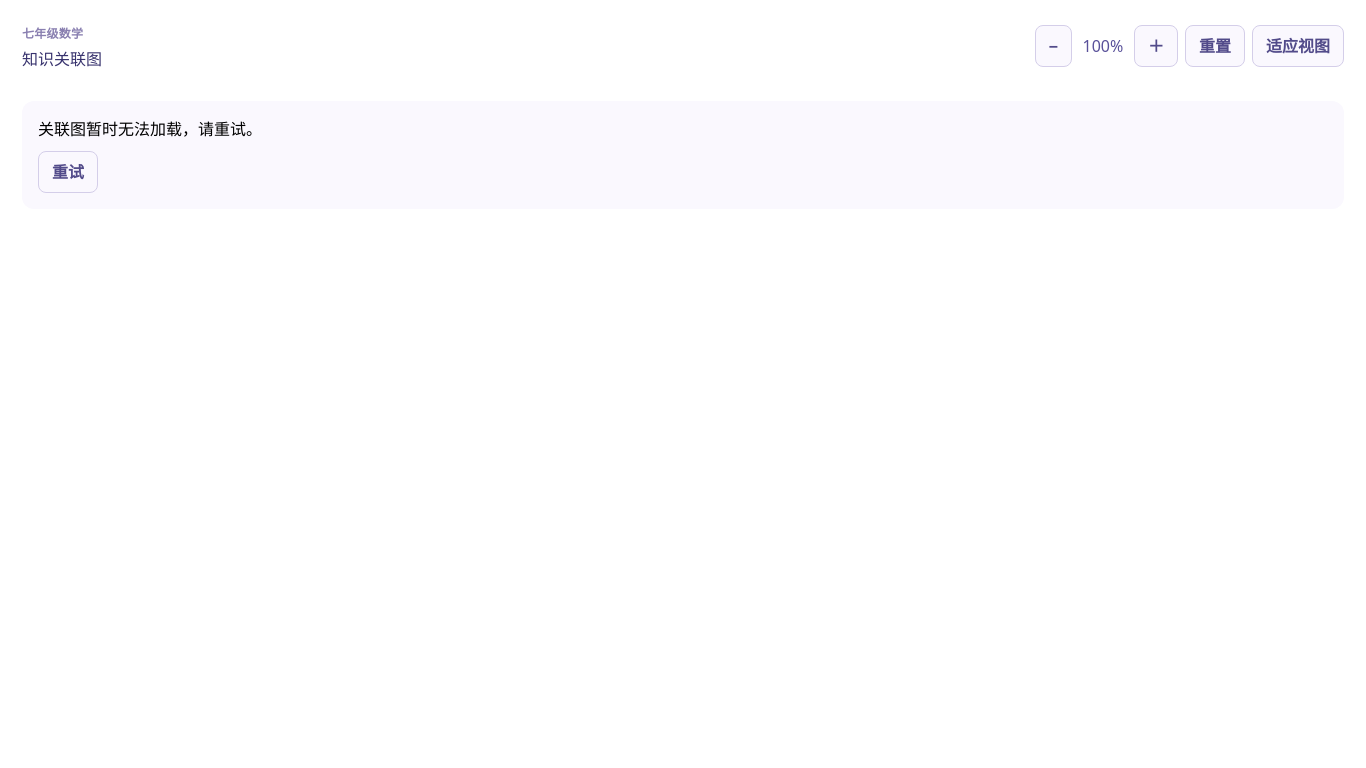
Scenario: KnowledgeGraphPanel › shows a non-abort failure and retries the graph request
Expected: the message reads "关联图暂时无法加载，请重试。", top-left (38, 118), bottom-right (262, 140)
Click the button "重试" at (68, 172), box top-left (38, 151), bottom-right (98, 193)
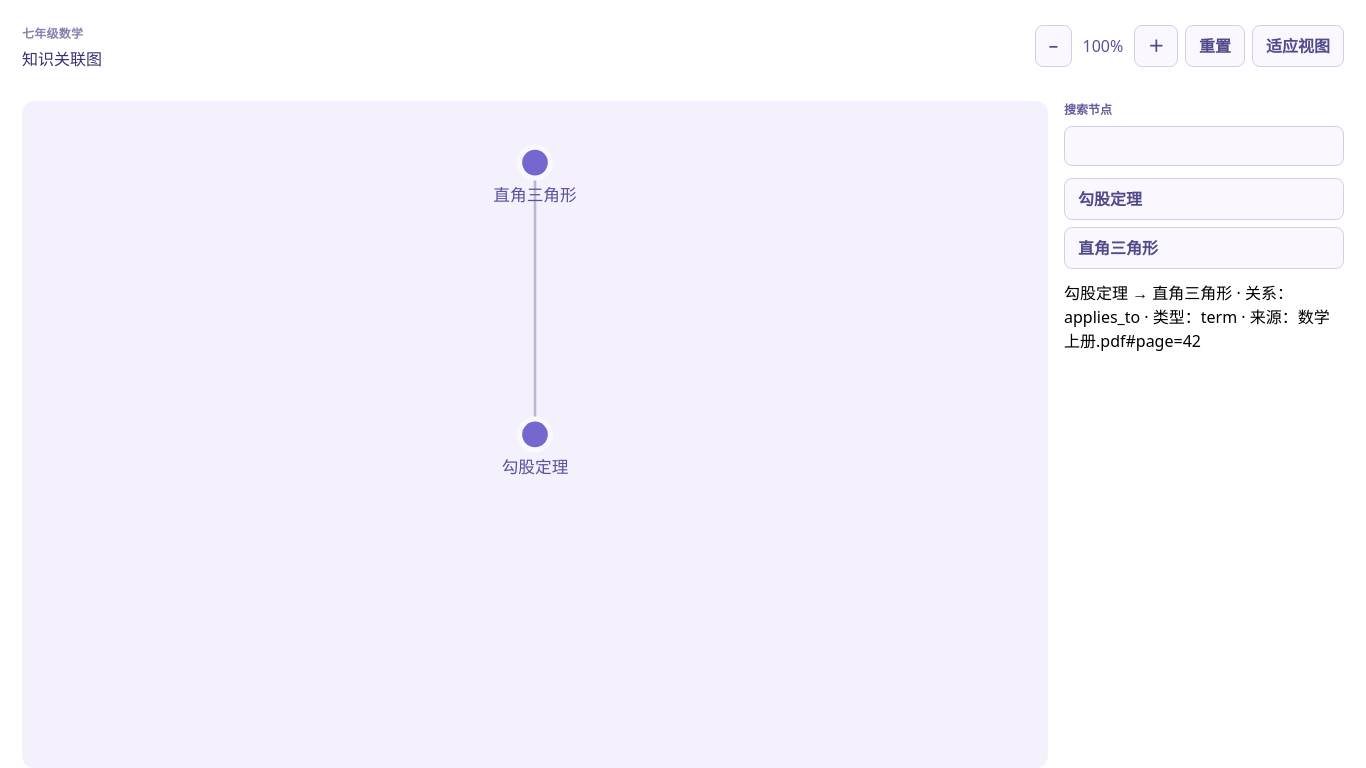
Expected: the picture named "七年级数学关联图" is shown
